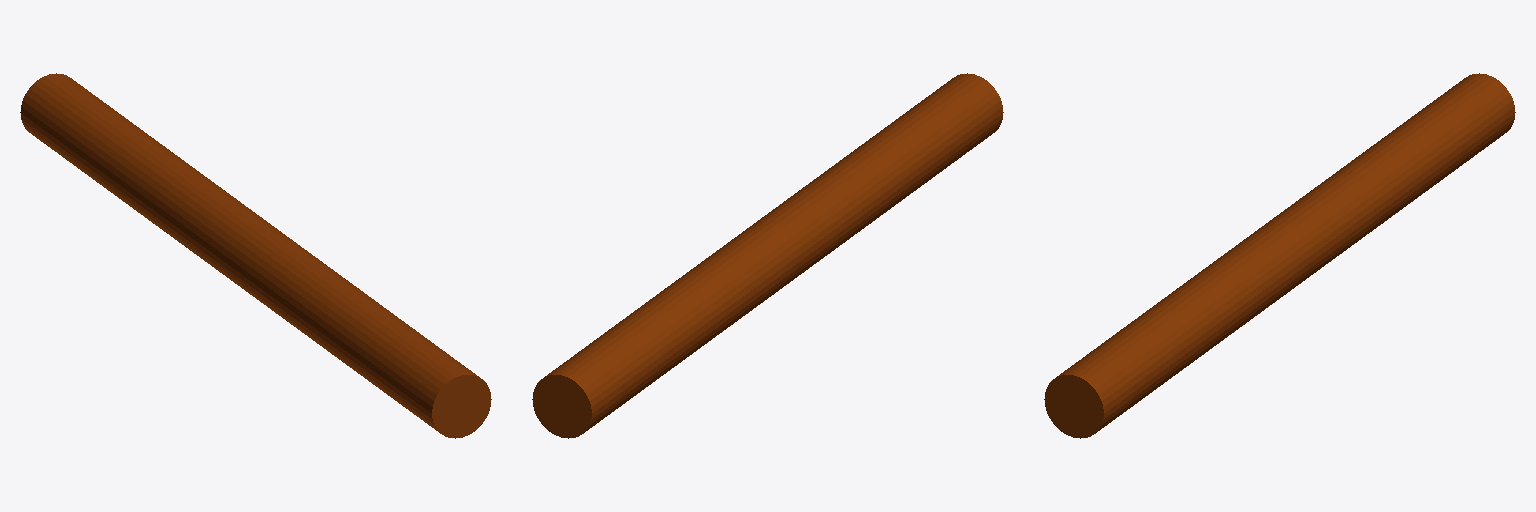
The robot description file, URDF, robot "cylinder":
<?xml version="1.0" ?>
<!-- =================================================================================== -->
<!-- |    This document was autogenerated by xacro from cylinder.xacro                 | -->
<!-- |    EDITING THIS FILE BY HAND IS NOT RECOMMENDED                                 | -->
<!-- =================================================================================== -->
<robot name="cylinder">
  <link name="world"/>
  <link name="base">
    <visual>
      <origin rpy="1.57079633 0 0" xyz="0 0 0"/>
      <geometry>
        <cylinder length="7.07106781185" radius="0.295"/>
      </geometry>
      <material name="cylinder_material">
        <color rgba="0.545 0.271 0.075 1.0"/>
        <texture filename="../textures/tree_bark.jpg"/>
      </material>
    </visual>
    <collision>
      <origin rpy="1.57079633 0 0" xyz="0 0 0"/>
      <geometry>
        <cylinder length="7.07106781185" radius="0.295"/>
      </geometry>
    </collision>
    <inertial>
      <origin rpy="0 0 0" xyz="0 0 0"/>
      <mass value="1"/>
      <inertia ixx="4.188422916648428" ixy="0.0" ixz="0.0" iyy="4.188422916648428" iyz="0.0" izz="24.999999999890573"/>
    </inertial>
  </link>
  <joint name="base_joint" type="fixed">
    <parent link="world"/>
    <child link="base"/>
    <origin rpy="0 0 0" xyz="0.0 0.0 0.0"/>
  </joint>
</robot>

--- Render facts (derived) ---
The picture shows the robot from 3 angles, left to right: view 1: azimuth 30°, elevation 25°; view 2: azimuth 150°, elevation 25°; view 3: azimuth 330°, elevation 25°; orthographic projection.
Robot: cylinder — 2 links, 1 joints (1 fixed); root link world; default pose: all joints at 0.
Links seen in each view (by area): view 1: base; view 2: base; view 3: base.
Boxes of the visible links, x1,y1,x2,y2 form: base: (20,73,491,438); base: (532,73,1003,438); base: (1044,73,1515,438).
Bounding box of the posed robot: 0.59 × 7.07 × 0.59 m (x, y, z).
Geometry: primitives only (box / cylinder / sphere), no mesh files.
